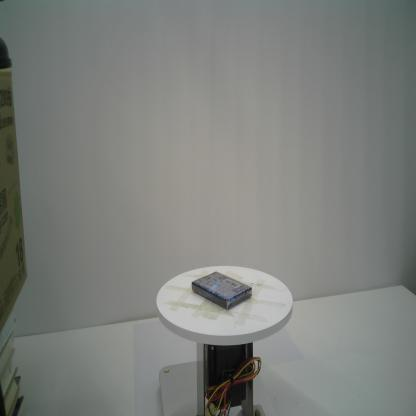Gum: (191, 270, 253, 310)
